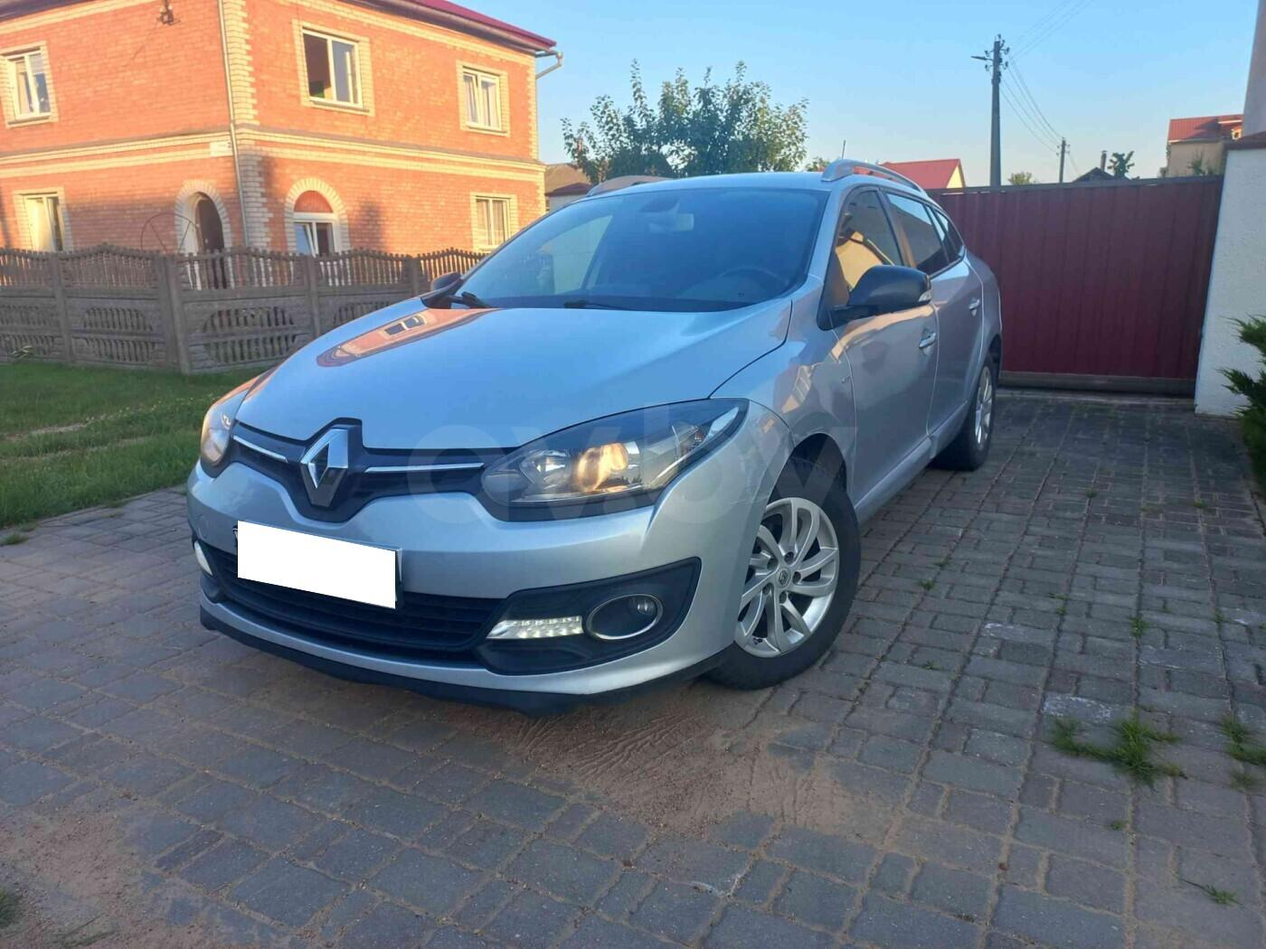Megane_2012-2014: (190, 161, 1000, 704)
